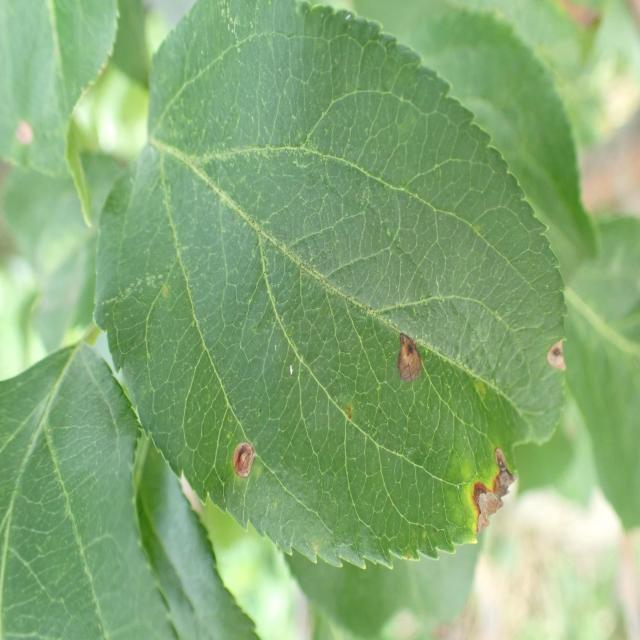Black Rot: (443, 422, 534, 573), (391, 316, 441, 419), (540, 319, 586, 396), (228, 414, 255, 518)
